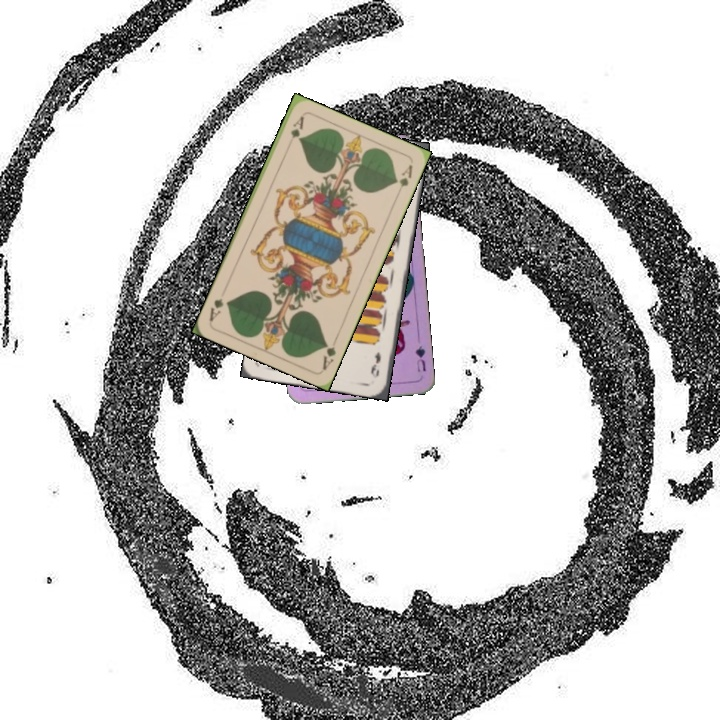E9: (367, 348, 384, 381)
GA: (319, 333, 340, 372), (286, 112, 307, 141)
GU: (411, 342, 428, 374)
